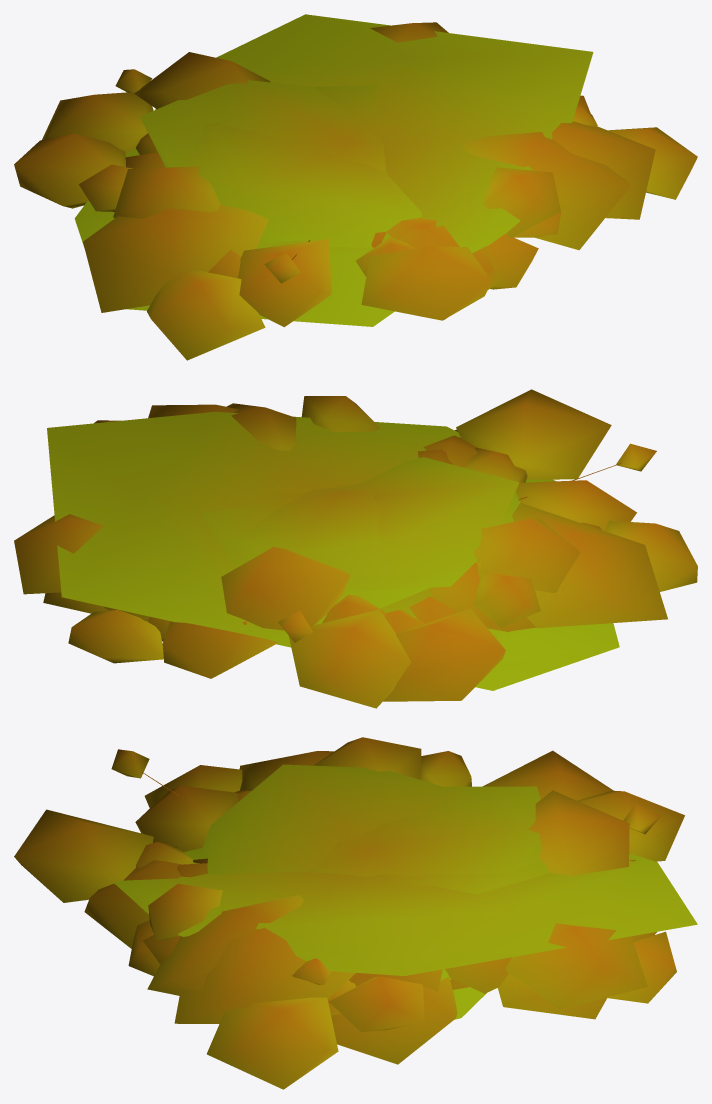
Rendered from mossmat.glb.
The picture shows the model from 3 angles, top to bottom: view 1: azimuth 30°, elevation 25°; view 2: azimuth 150°, elevation 25°; view 3: azimuth 270°, elevation 25°; orthographic projection. The views are drawn at different scales.
Visible parts, largest first — view 1: v1, v0, v2, v3; view 2: v1, v0, v2, v3; view 3: v1, v0, v2, v3.
Part boxes in pixels (left/top/right/bottom): v1: left=14, top=14, right=697, bottom=360; v0: left=83, top=52, right=655, bottom=320; v2: left=79, top=69, right=597, bottom=289; v3: left=314, top=85, right=630, bottom=250; v1: left=14, top=389, right=697, bottom=708; v0: left=43, top=404, right=667, bottom=633; v2: left=147, top=396, right=656, bottom=642; v3: left=103, top=403, right=452, bottom=622; v1: left=14, top=737, right=697, bottom=1089; v0: left=84, top=751, right=629, bottom=1064; v2: left=111, top=749, right=661, bottom=1015; v3: left=147, top=860, right=549, bottom=1044.
Size of the model in its own units: 78.54 by 16.28 by 73.95.
